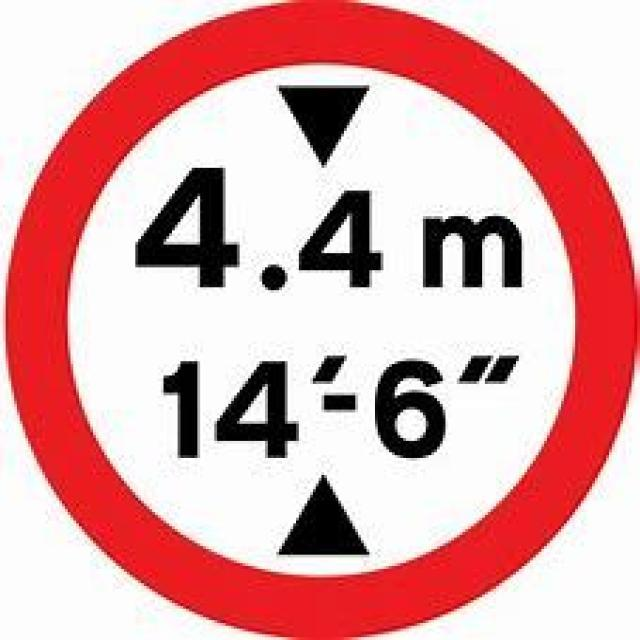height limit: (15, 13, 627, 628)
